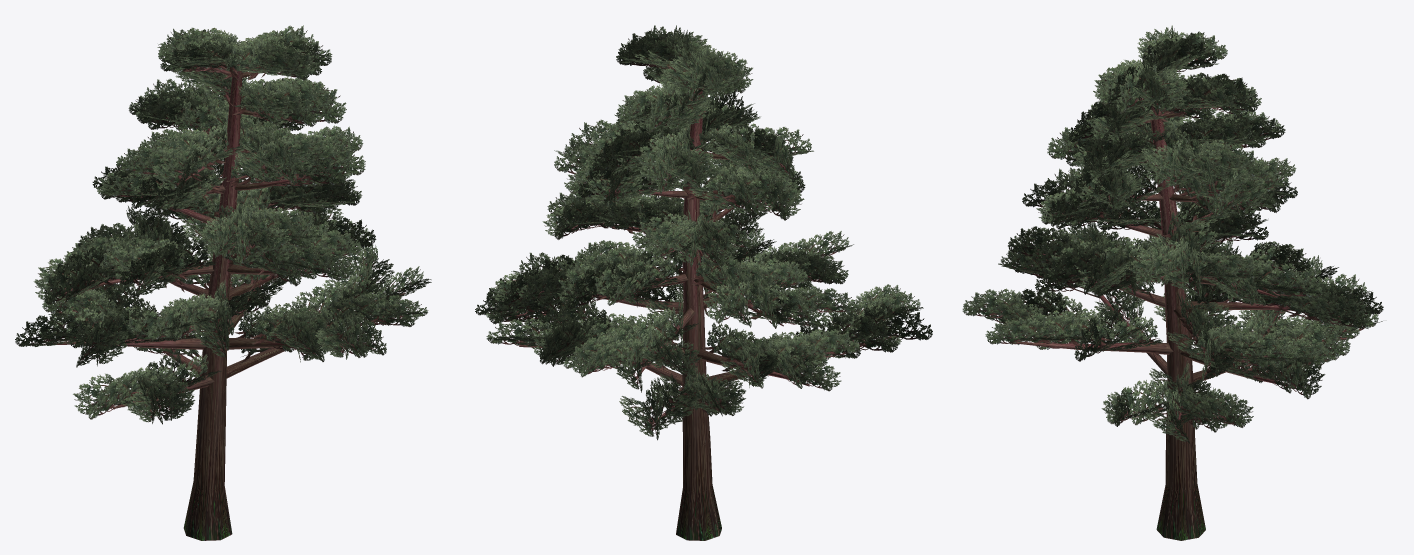
Rendered from pine07_lod0.glb.
3 views of the same model, side by side, from view 1: azimuth 30°, elevation 25°; view 2: azimuth 150°, elevation 25°; view 3: azimuth 270°, elevation 25° (orthographic). The views are drawn at different scales.
Visible parts, largest first — view 1: pine07_lod0; view 2: pine07_lod0; view 3: pine07_lod0.
Part boxes in pixels (x1,y1,x2,y2): pine07_lod0: (15,25,431,540); pine07_lod0: (475,25,932,540); pine07_lod0: (962,25,1383,540).
Size of the model in its own units: 42.71 by 48.56 by 38.93.
Materials: 2 (2 with a texture image).
